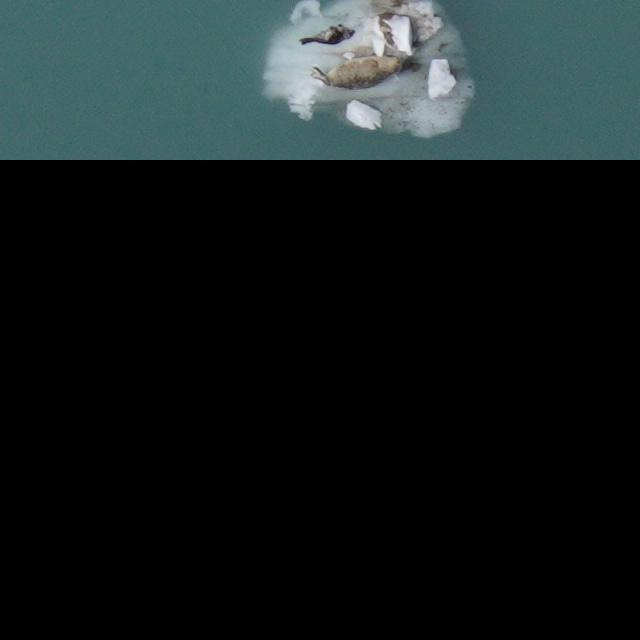seal: (309, 50, 422, 96), (299, 17, 358, 56)
